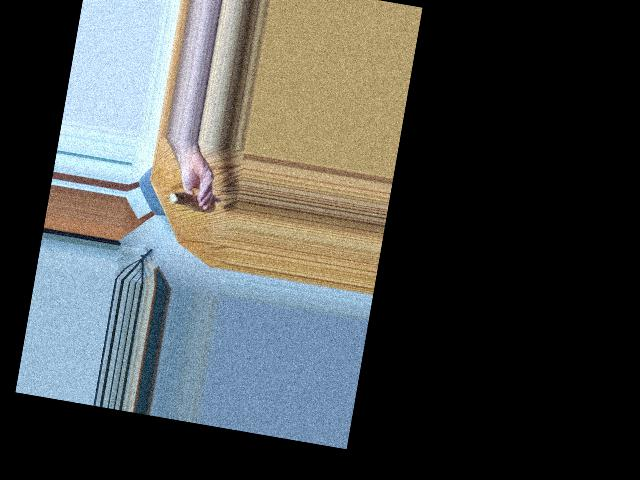sweet_potato: (170, 187, 213, 215)
